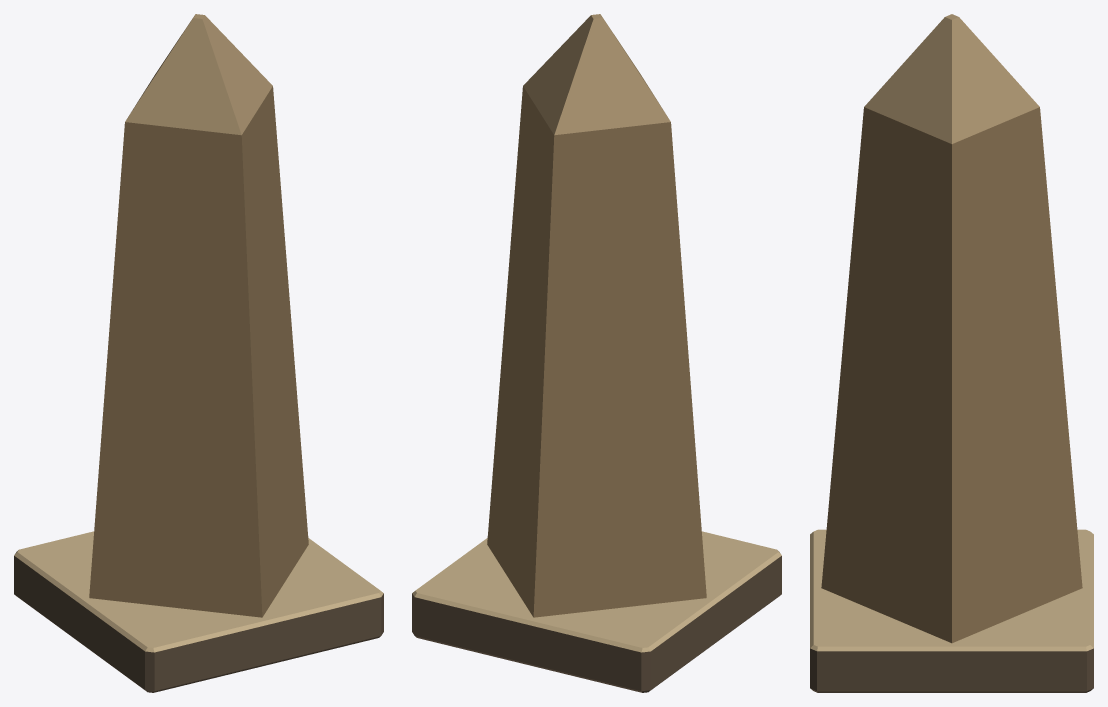
Rendered from obelisk.glb.
The picture shows the model from 3 angles, left to right: view 1: azimuth 30°, elevation 25°; view 2: azimuth 150°, elevation 25°; view 3: azimuth 270°, elevation 25°; orthographic projection. The views are drawn at different scales.
Visible parts, largest first — view 1: obelisk__body; view 2: obelisk__body; view 3: obelisk__body.
Part boxes in pixels (<box>): obelisk__body: <box>14,14,383,692</box>; obelisk__body: <box>412,14,781,692</box>; obelisk__body: <box>810,14,1093,692</box>.
Size of the model in its own units: 1 by 2.4 by 1.
